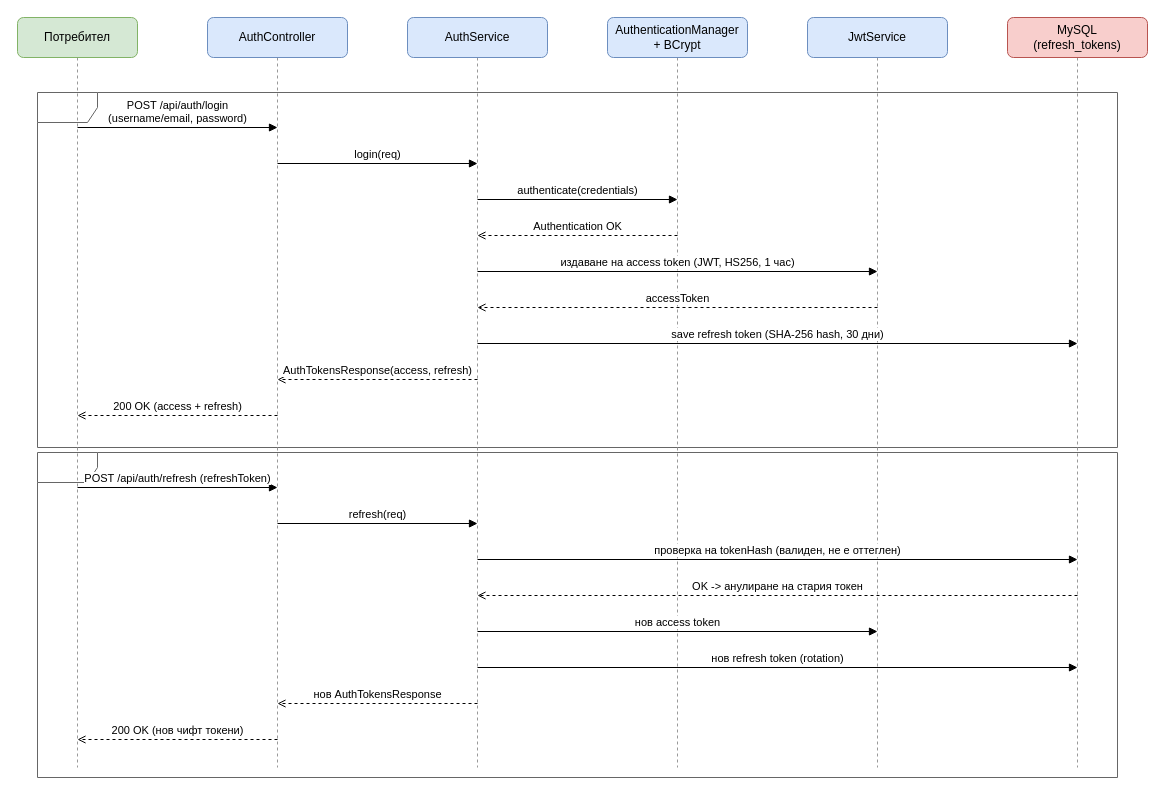
Image size: 1165x795. Some labels were removed from this diagram. Each missing label, with the centre of its shape:
Вход (Login): the point at 577,270
Опресняване (Refresh / rotation): the point at 577,615
